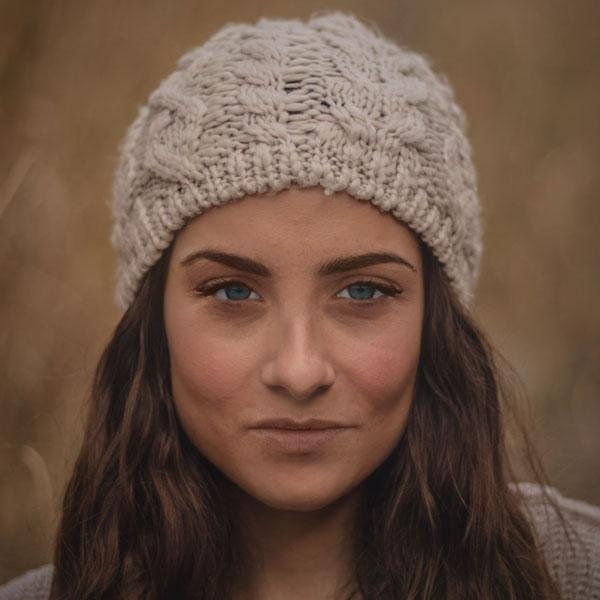Eyes: (186, 268, 268, 313), (322, 271, 404, 316)
